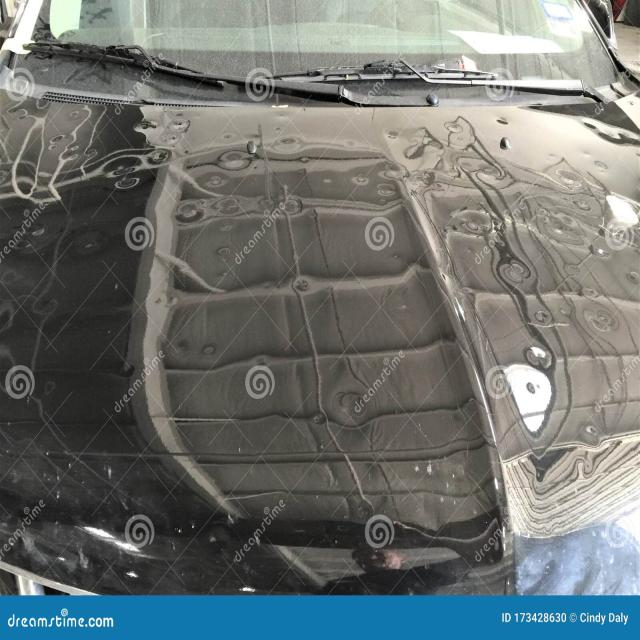dent: (0, 95, 640, 595)
